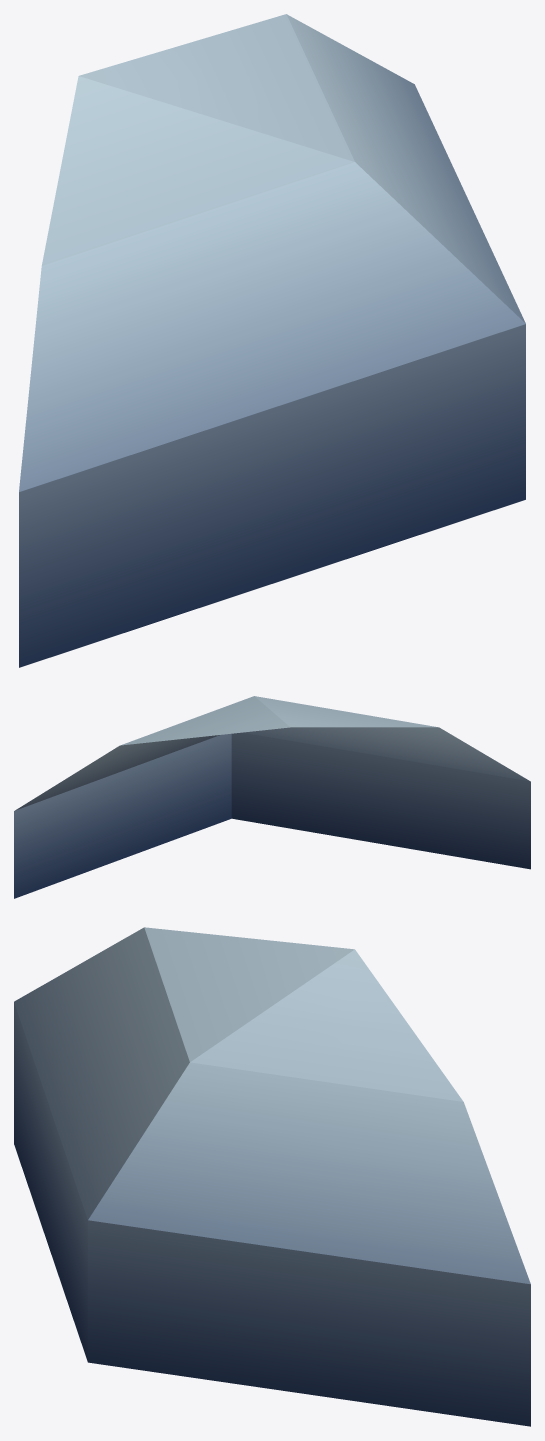
File: boulder7.fbx
The picture shows the model from 3 angles, top to bottom: view 1: azimuth 30°, elevation 25°; view 2: azimuth 150°, elevation 25°; view 3: azimuth 270°, elevation 25°; orthographic projection. The views are drawn at different scales.
Parts seen in each view (by area): view 1: boulder7; view 2: boulder7; view 3: boulder7.
Part boxes in pixels (x1,y1,x2,y2): boulder7: (19,14,525,667); boulder7: (14,696,530,898); boulder7: (14,927,530,1426).
Size of the model in its own units: 0.0722 by 0.0359 by 0.0558.
Materials: 1 (1 with a texture image).
